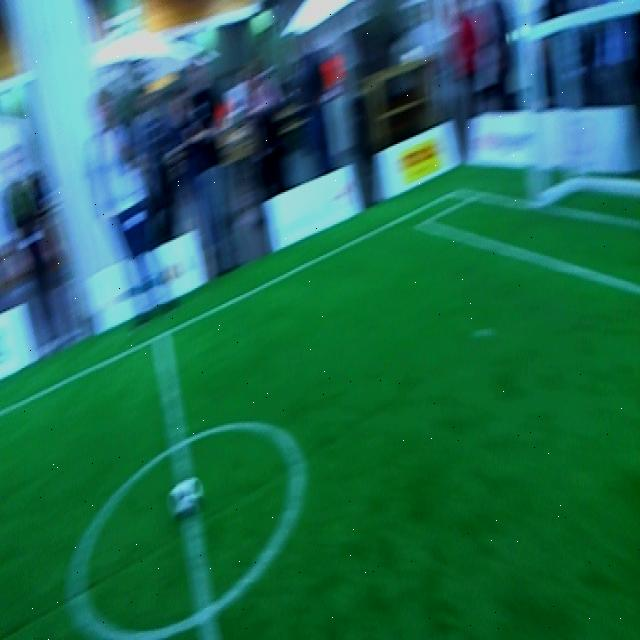ball: (165, 476, 200, 524)
goalpost: (513, 2, 545, 215)
